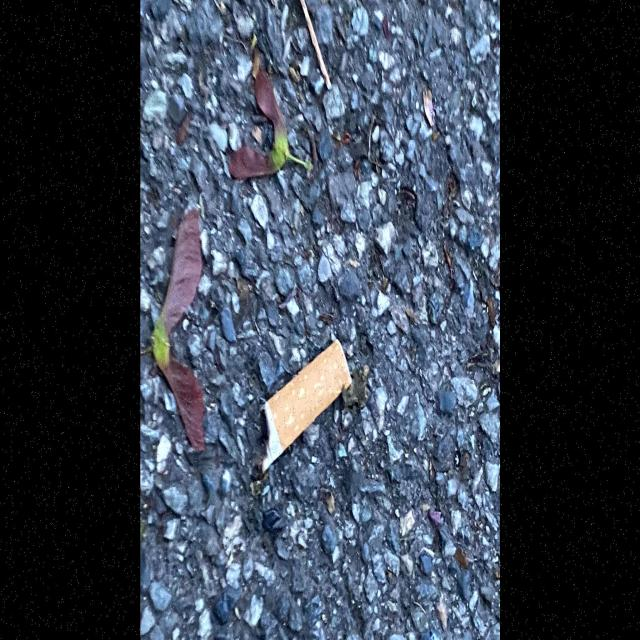other waste: (256, 337, 353, 476)
